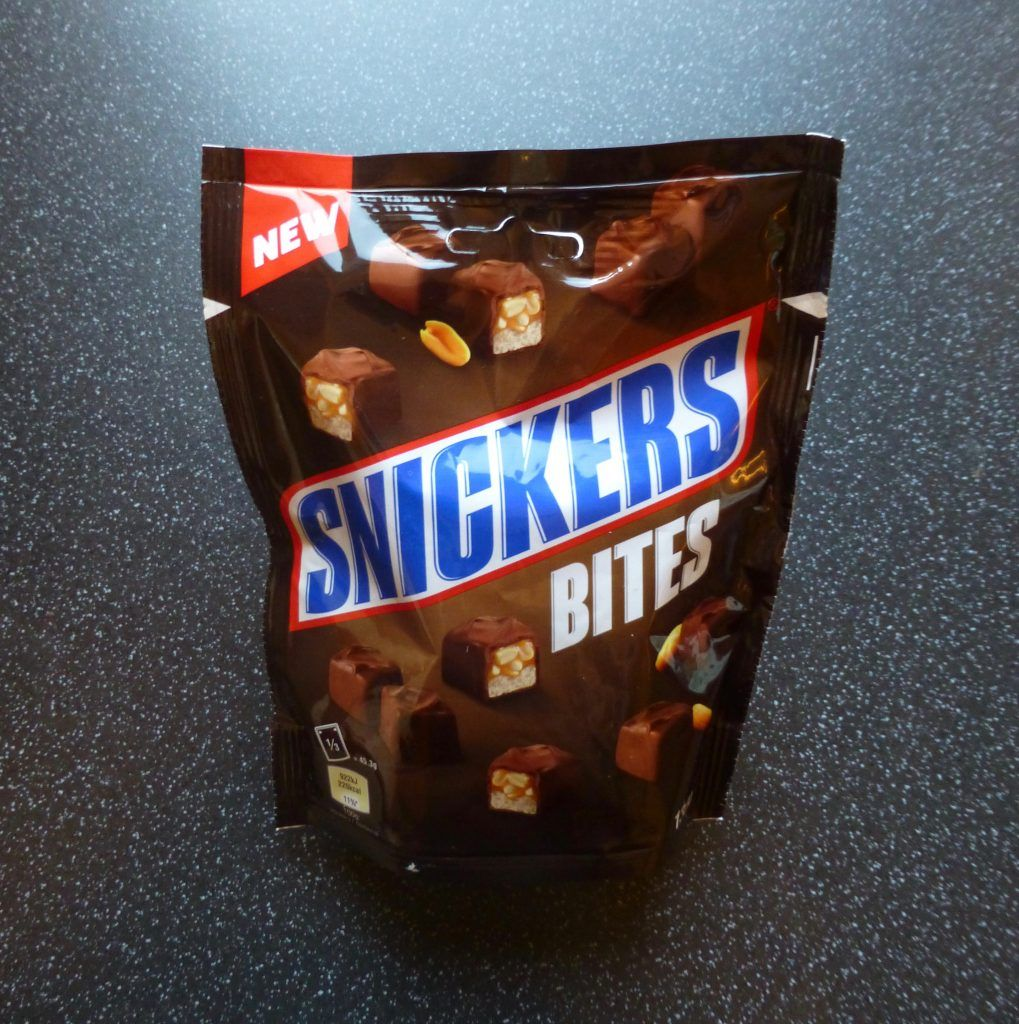snickers: (294, 323, 745, 611), (294, 323, 738, 611), (294, 328, 738, 611)
